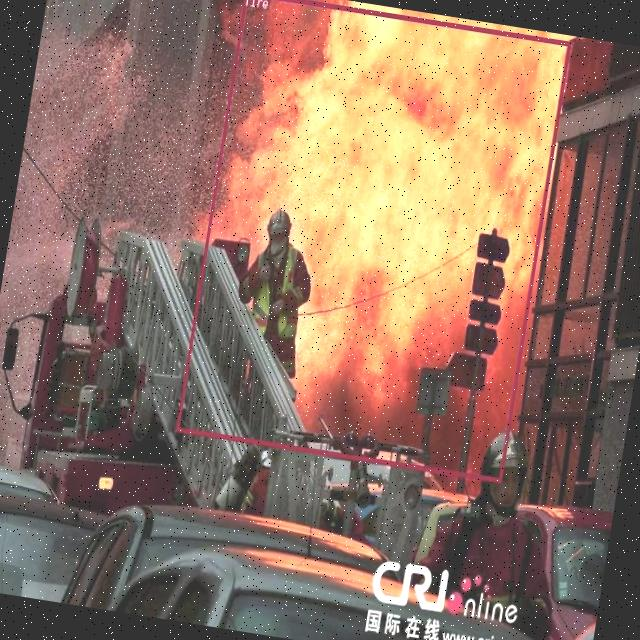fire: (175, 0, 571, 481)
